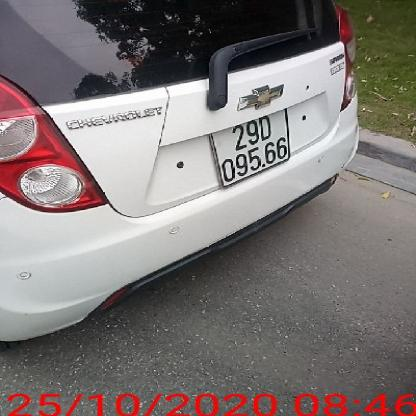biensoxe: (210, 106, 295, 189)
